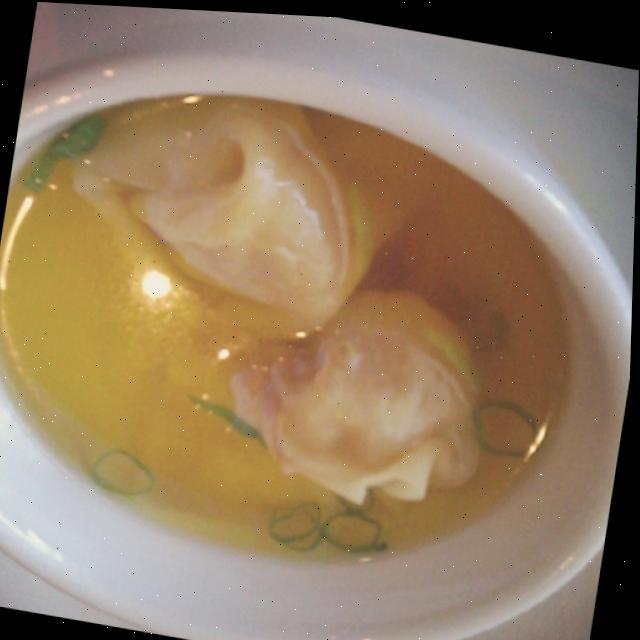汤锅炖物: (0, 10, 625, 627)
